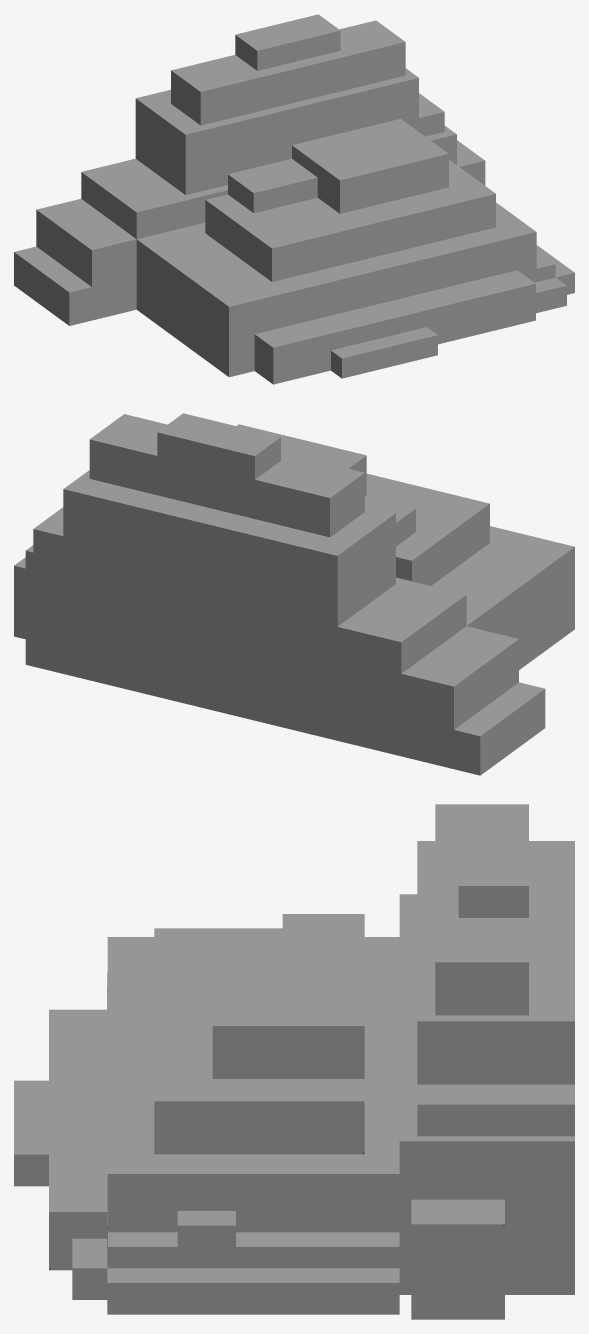
Rendered from RockMt.fbx.
3 views of the same model, one above another, from view 1: azimuth 30°, elevation 25°; view 2: azimuth 150°, elevation 25°; view 3: azimuth 270°, elevation 25° (orthographic). The views are drawn at different scales.
Parts seen in each view (by area): view 1: 큐브; view 2: 큐브; view 3: 큐브.
Part boxes in pixels (x1,y1,x2,y2): 큐브: [14, 14, 574, 384]; 큐브: [14, 413, 574, 775]; 큐브: [14, 804, 574, 1319].
Bounding box in the file's own units: 655 × 315 × 480.
Materials: 1 (1 with a texture image).
